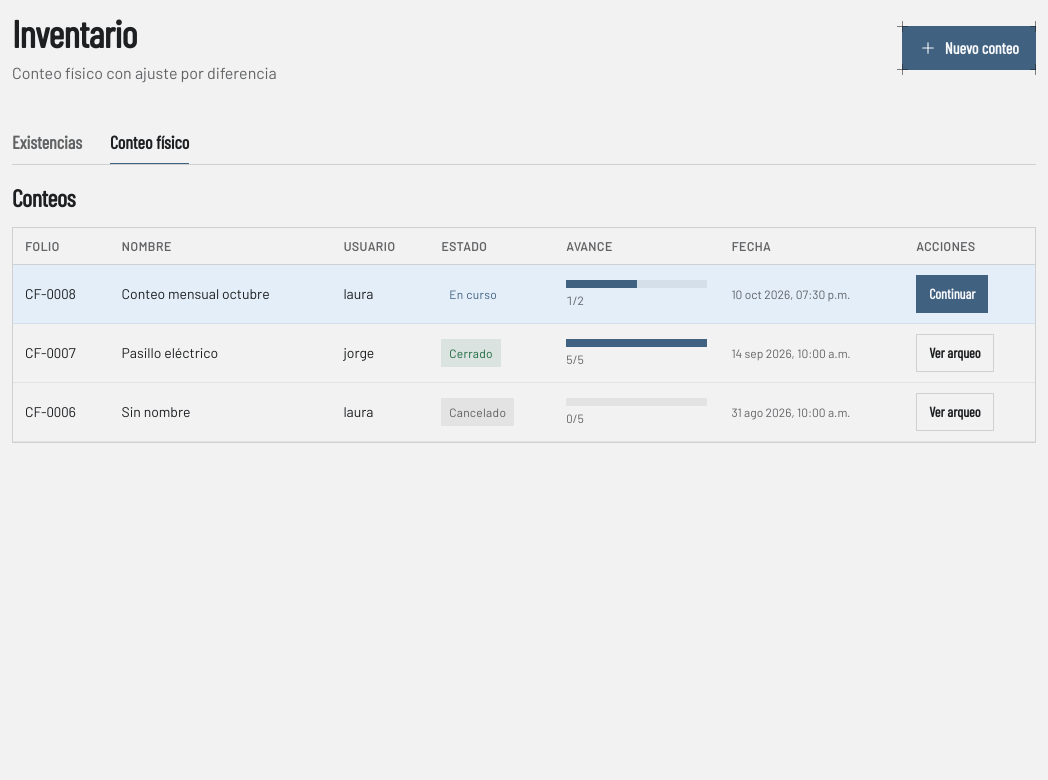
Conteo físico con el diseño Industry › al abrir un conteo muestra el avance, los contados y las diferencias
Click the button "Continuar": click(952, 294) [916,275,988,313]
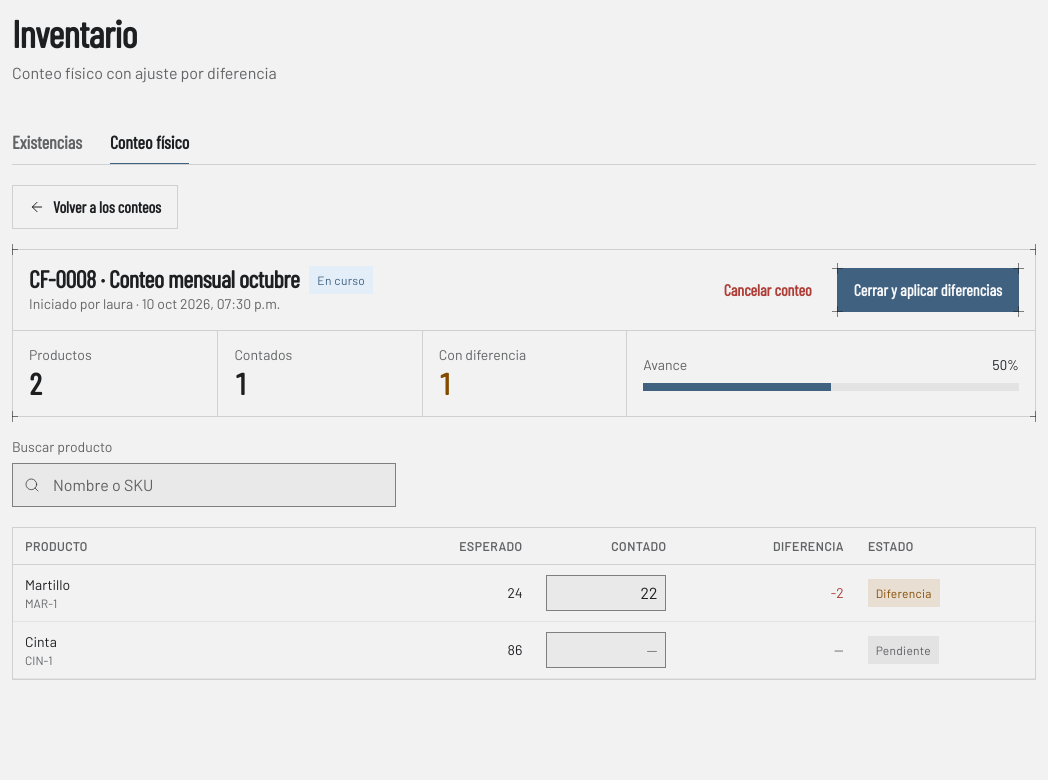
Check: the heading "CF-0008 · Conteo mensual octubre" is shown, box [29,266,299,293]
Check: the text "50%" is shown, box [992,355,1019,375]
Check: the text "-2" is shown, box [678,565,856,622]
